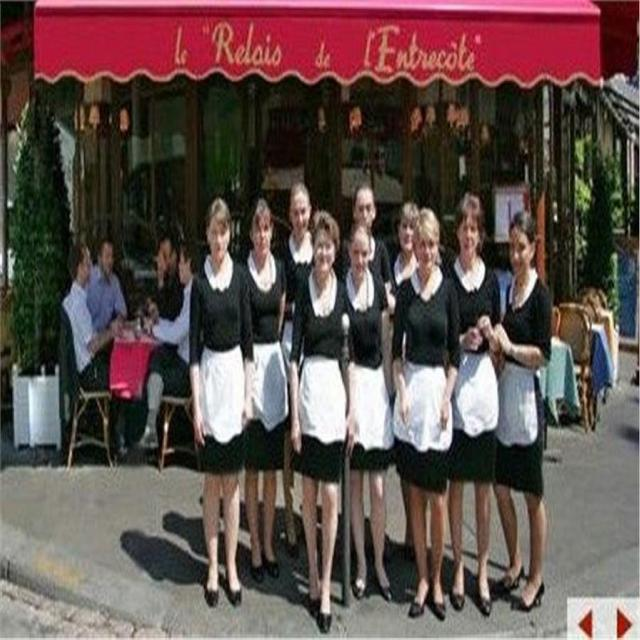nomask: (312, 236, 333, 277), (509, 233, 529, 275), (460, 215, 479, 255), (209, 222, 227, 262), (291, 200, 309, 238), (351, 240, 368, 280), (399, 215, 416, 253), (253, 221, 270, 256), (417, 238, 435, 270), (356, 198, 372, 234), (160, 244, 172, 278), (101, 247, 113, 276), (177, 251, 188, 282), (80, 252, 90, 278)
